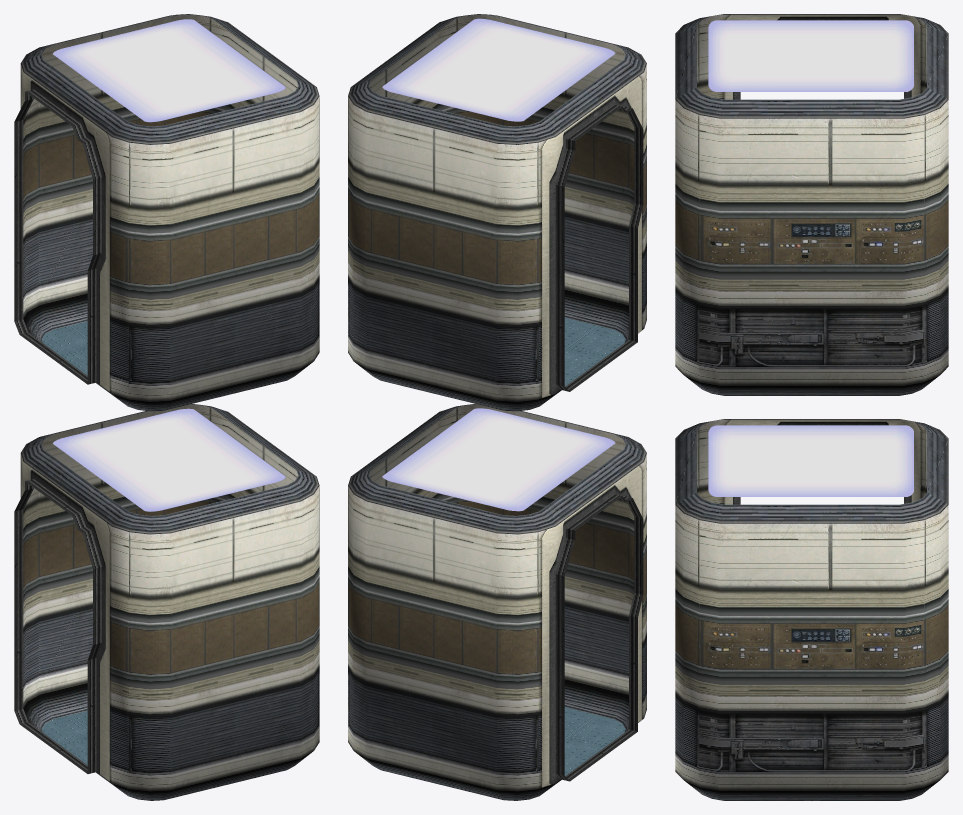
File: sorosuub_space_yacht_r11_elevator2_mesh_r11.fbx
The picture shows the model from 3 angles, left to right: view 1: azimuth 30°, elevation 25°; view 2: azimuth 150°, elevation 25°; view 3: azimuth 270°, elevation 25°; orthographic projection. The views are drawn at different scales.
Visible parts, largest first — view 1: mesh_node; view 2: mesh_node; view 3: mesh_node.
Part boxes in pixels (x1,y1,x2,y2): mesh_node: (14,14,319,800); mesh_node: (348,14,646,800); mesh_node: (675,14,948,800).
Size of the model in its own units: 2.36 by 7.1 by 2.51.
